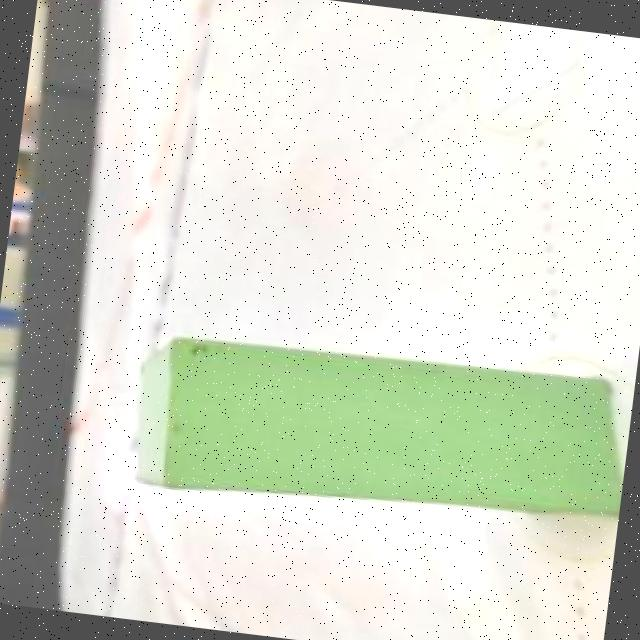greenbox: (120, 316, 635, 545)
